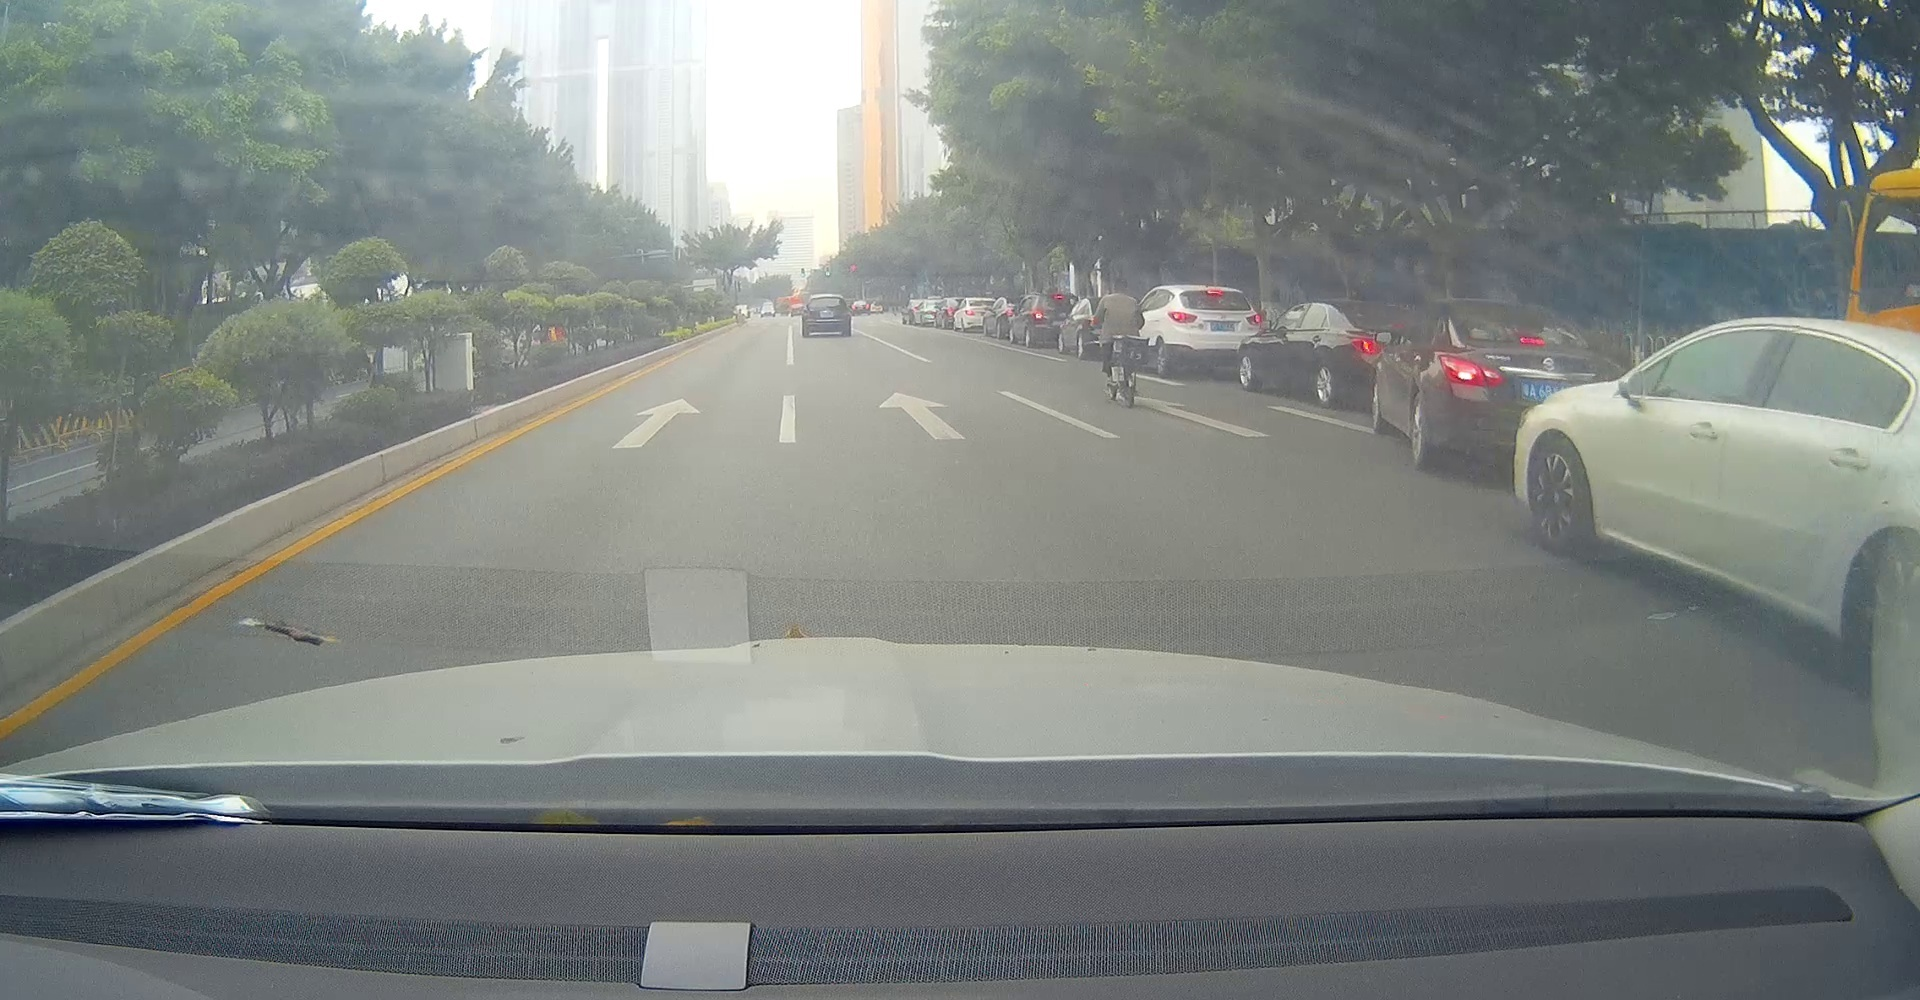L_light: (1167, 311, 1197, 324), (803, 308, 814, 316)
R_light: (1244, 313, 1261, 325), (836, 307, 850, 315)
T_light: (1208, 291, 1224, 294), (822, 296, 832, 299)
day-brake: (1166, 286, 1261, 378)
day-no: (803, 294, 850, 338)
